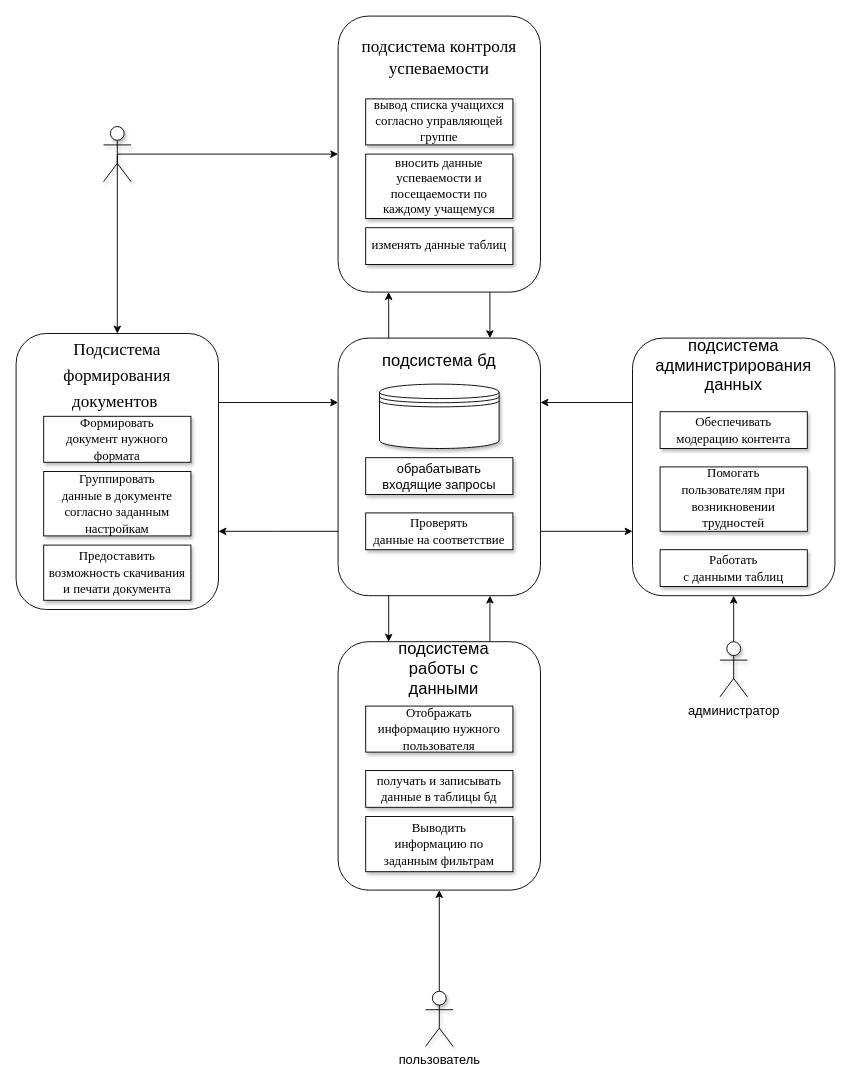
Some shapes in this 851 by 1085 pixel diagram are drawn without their labels. The shapes that lost their labels are listed below. From the top down, each one's centre as x and y in pixels, then its label:
At [118,155]: "преподаватель".
At [440,417]: "бд".
